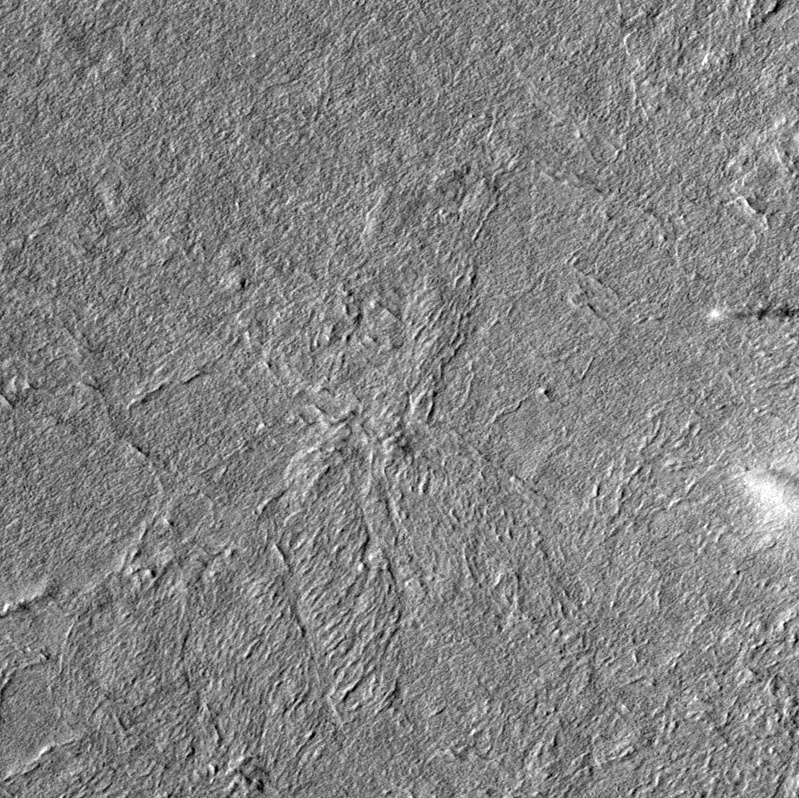dust_devil: (740, 465, 799, 519), (705, 305, 799, 324)
